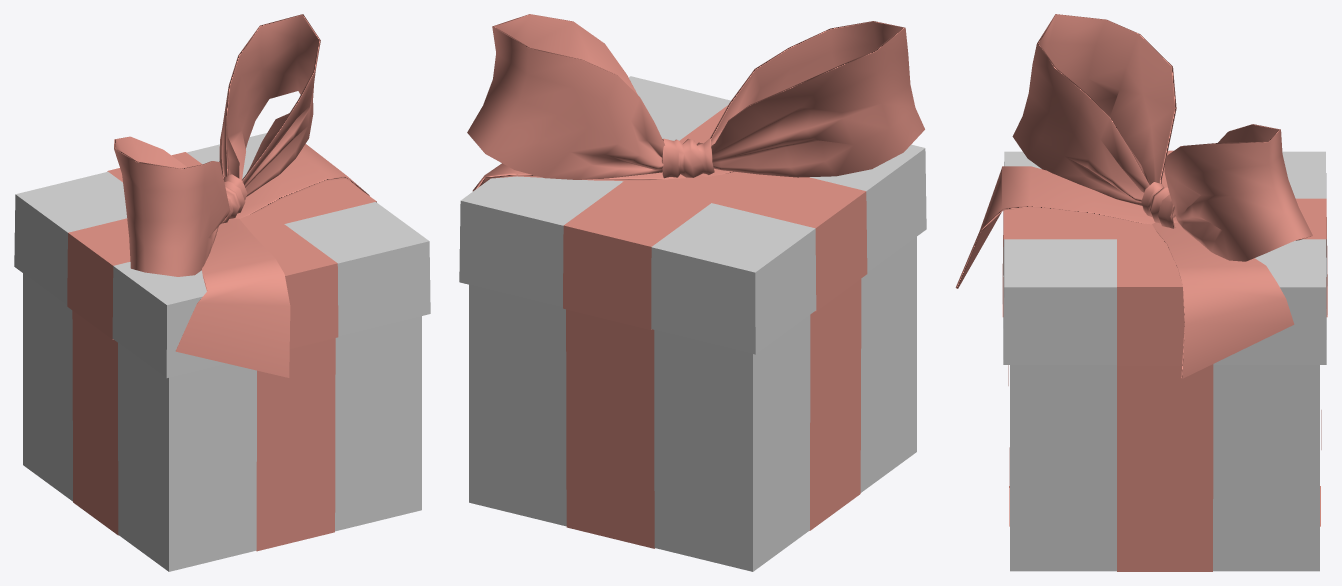
Rendered from regalo.fbx.
3 views of the same model, side by side, from view 1: azimuth 30°, elevation 25°; view 2: azimuth 150°, elevation 25°; view 3: azimuth 270°, elevation 25° (orthographic). The views are drawn at different scales.
Parts seen in each view (by area): view 1: CAJA, TAPA, CINTA_CAJA, CINTA_TAPA, AMARRA04, AMARRA01, AMARRA03, AMARRA05, AMARRA02; view 2: CAJA, TAPA, CINTA_CAJA, AMARRA03, CINTA_TAPA, AMARRA01, AMARRA02, AMARRA05; view 3: CAJA, TAPA, AMARRA03, CINTA_CAJA, AMARRA01, CINTA_TAPA, AMARRA05, AMARRA04, AMARRA02.
Boxes of the visible parts, box(x1,y1,x2,y2) form: CAJA: box(23, 273, 421, 571); TAPA: box(14, 133, 430, 378); CINTA_CAJA: box(72, 310, 335, 551); CINTA_TAPA: box(67, 152, 376, 348); AMARRA04: box(175, 218, 290, 377); AMARRA01: box(219, 14, 320, 196); AMARRA03: box(114, 136, 231, 276); AMARRA05: box(234, 144, 369, 218); AMARRA02: box(221, 174, 247, 223); CAJA: box(469, 237, 916, 571); TAPA: box(459, 76, 926, 354); CINTA_CAJA: box(566, 279, 861, 548); AMARRA03: box(710, 21, 924, 177); CINTA_TAPA: box(563, 105, 867, 329); AMARRA01: box(467, 14, 664, 179); AMARRA02: box(661, 138, 714, 178); AMARRA05: box(472, 163, 689, 191); CAJA: box(1010, 365, 1319, 571); TAPA: box(1003, 151, 1326, 364); AMARRA03: box(1012, 14, 1176, 205); CINTA_CAJA: box(1008, 365, 1321, 571); AMARRA01: box(1164, 124, 1312, 261); CINTA_TAPA: box(1002, 150, 1327, 365); AMARRA05: box(1152, 222, 1294, 378); AMARRA04: box(955, 166, 1155, 288); AMARRA02: box(1141, 182, 1177, 228).
Bounding box in the file's own units: 183 × 226 × 177.
